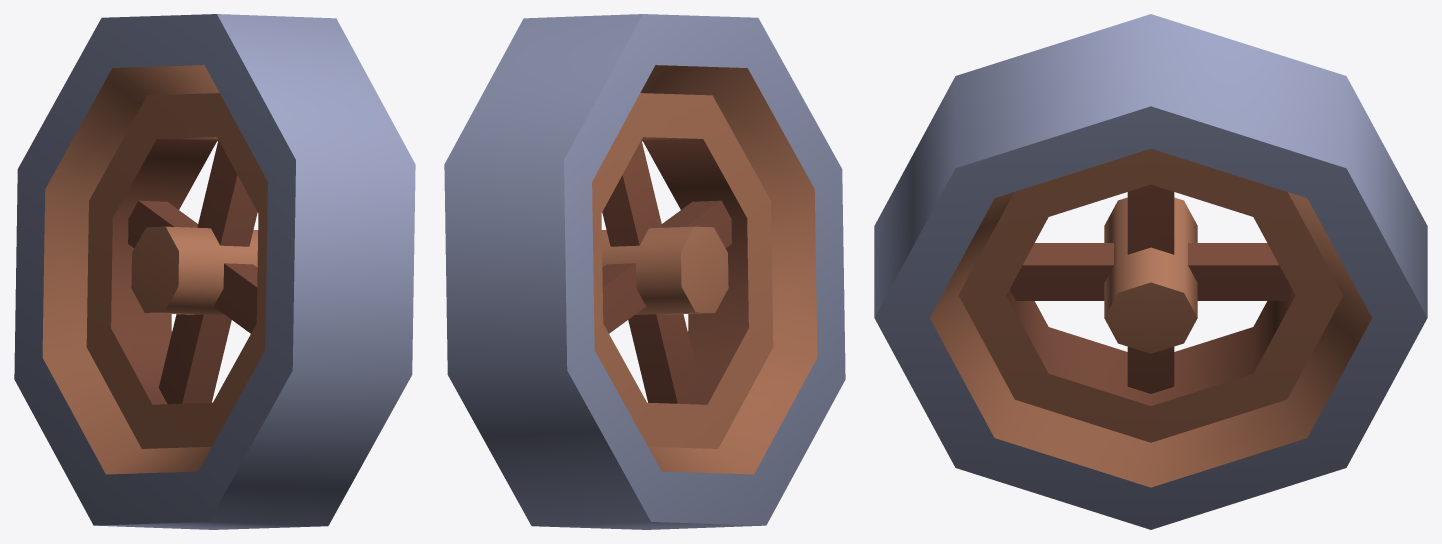
File: T_wheel.glb
3 renders of one model, left to right at view 1: azimuth 30°, elevation 25°; view 2: azimuth 150°, elevation 25°; view 3: azimuth 270°, elevation 25°, orthographic.
Parts seen in each view (by area): view 1: wheel; view 2: wheel; view 3: wheel.
Part boxes in pixels (box(x1,y1,x2,y2)): wheel: box(14, 14, 415, 529); wheel: box(444, 14, 845, 529); wheel: box(874, 14, 1427, 529).
Size of the model in its own units: 0.2384 by 0.4833 by 0.4678.
